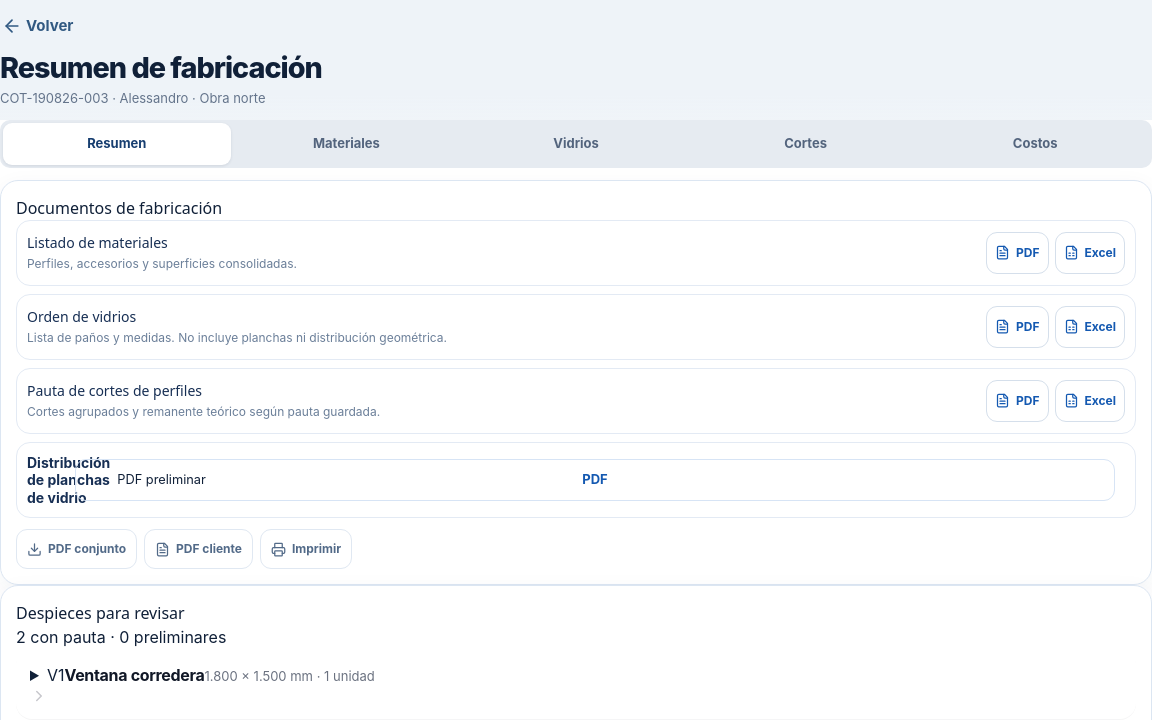
Test: FabricacionResumenMovil › muestra color, proveedor y total referencial calculado desde la pauta
Click the tab "Materiales". click: (346,144)
box: [233, 123, 460, 165]
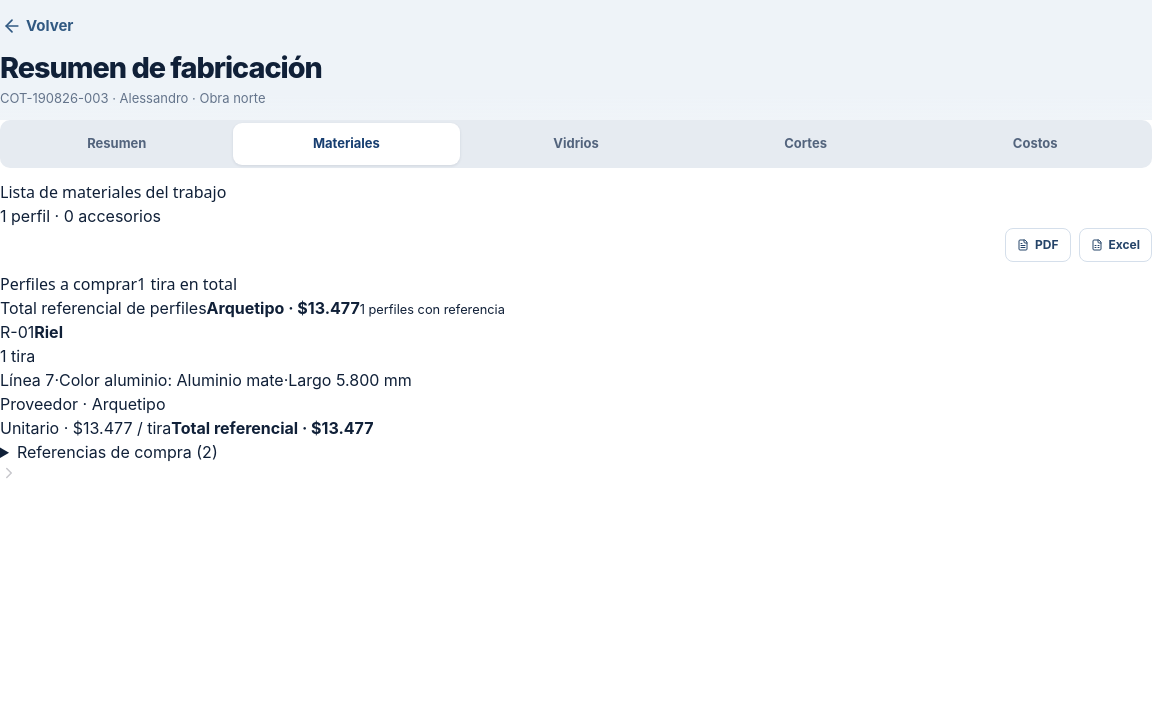
Expected: the text "Proveedor · Arquetipo" is shown, [0, 394, 166, 414]
Expected: the text "Unitario · $13.477 / tira" is shown, [0, 418, 171, 438]
Expected: the text "Total referencial · $13.477" is shown, [171, 418, 374, 438]
